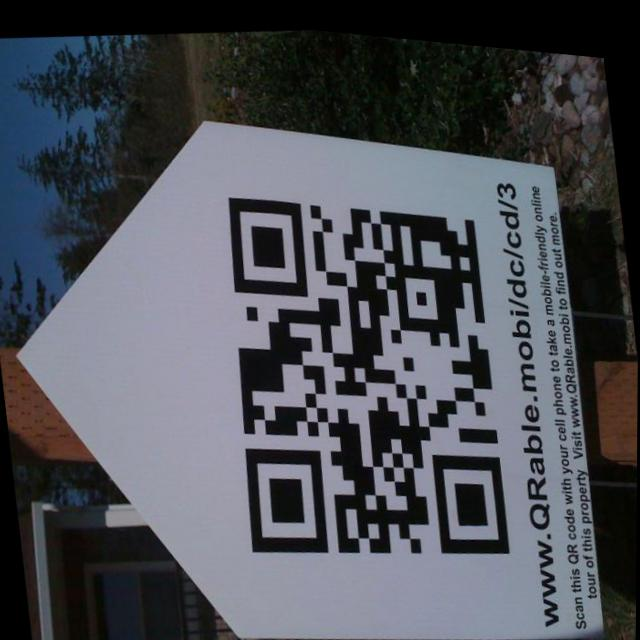qrcode: (211, 163, 515, 574)
